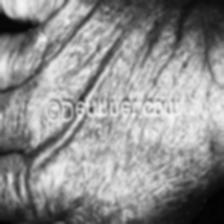Non-Cancerous Skin Condition: (100, 8, 166, 92), (94, 121, 153, 199)
